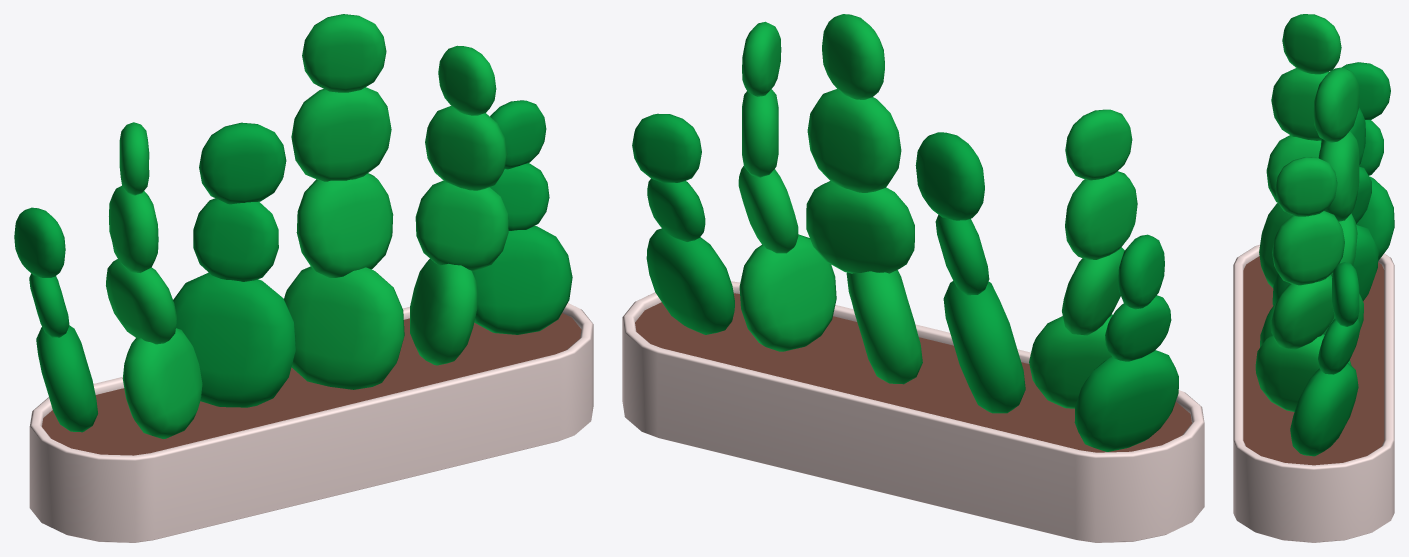
Rendered from Town_6_Plant_6.glb.
3 views of the same model, side by side, from view 1: azimuth 30°, elevation 25°; view 2: azimuth 150°, elevation 25°; view 3: azimuth 270°, elevation 25° (orthographic). The views are drawn at different scales.
Visible parts, largest first — view 1: Town_6_Plant_6; view 2: Town_6_Plant_6; view 3: Town_6_Plant_6.
Part boxes in pixels (x1=…): Town_6_Plant_6: x1=14, y1=14, x2=593, y2=542; Town_6_Plant_6: x1=622, y1=14, x2=1204, y2=542; Town_6_Plant_6: x1=1233, y1=14, x2=1394, y2=542.
Size of the model in its own units: 1.04 by 0.7765 by 0.3027.
Materials: 1 (1 with a texture image).
